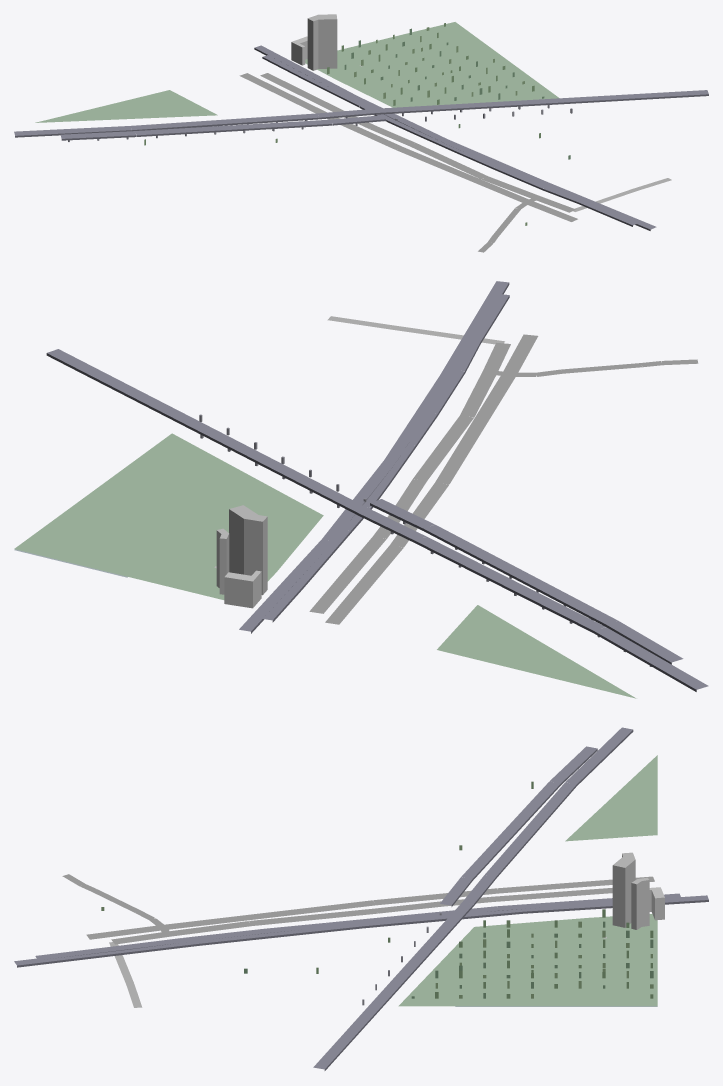
The picture shows the model from 3 angles, top to bottom: view 1: azimuth 30°, elevation 25°; view 2: azimuth 150°, elevation 25°; view 3: azimuth 270°, elevation 25°; orthographic projection. The views are drawn at different scales.
Bounding box in the file's own units: 669 × 57.26 × 582.
